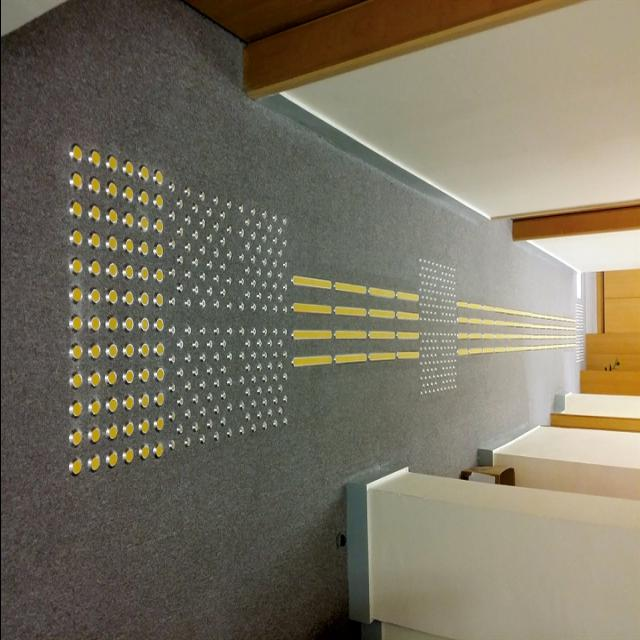tactile-guide-path: (65, 141, 291, 479), (289, 271, 421, 373), (458, 300, 578, 354), (418, 257, 458, 394)
